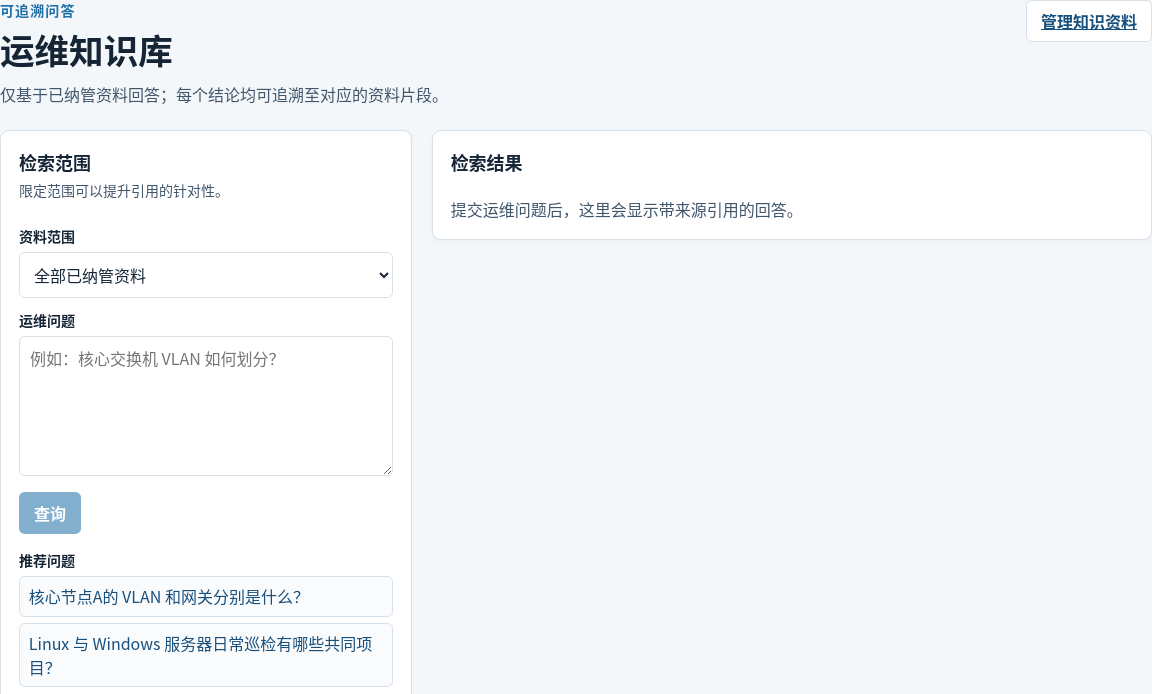
Test: shows retrieval, server-owned local generation metadata, concatenated deltas, citations, and completion time
The width and height of the screenshot is (1152, 694).
In the text box labelled "运维问题": (206, 406) [19,336,393,476], type "核心交换机 VLAN 如何划分？"
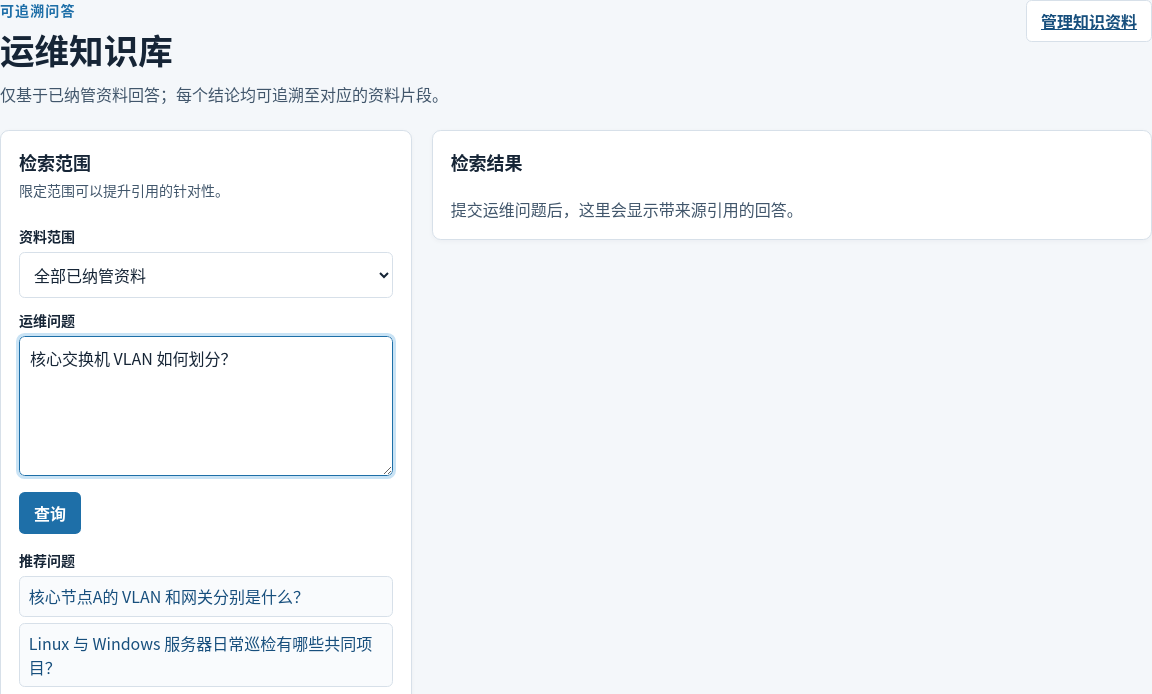
Click the button "查询": (50, 513) [19,492,81,534]
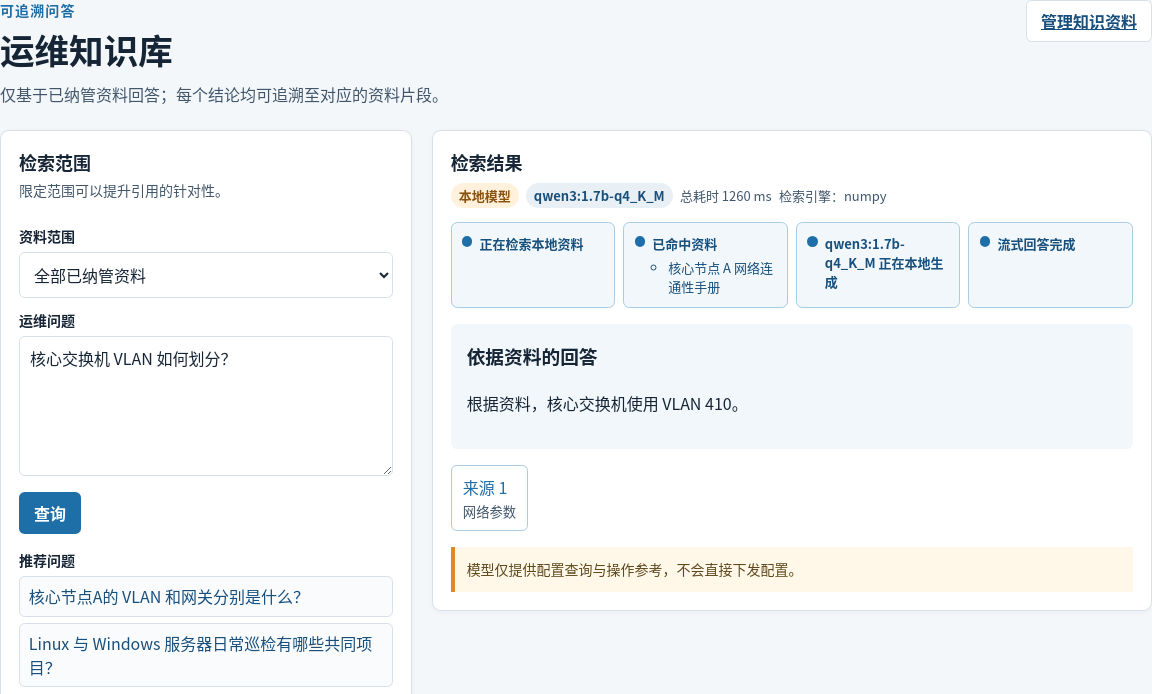
Expected: the text "根据资料，核心交换机使用 VLAN 410。" is shown, [467,391,748,415]
Expected: the text "已命中资料" is shown, [652,234,717,253]
Expected: the list item "核心节点 A 网络连通性手册" is shown, [668,258,776,296]
Click the button "来源 1 网络参数": (489, 498) [451,466,528,531]
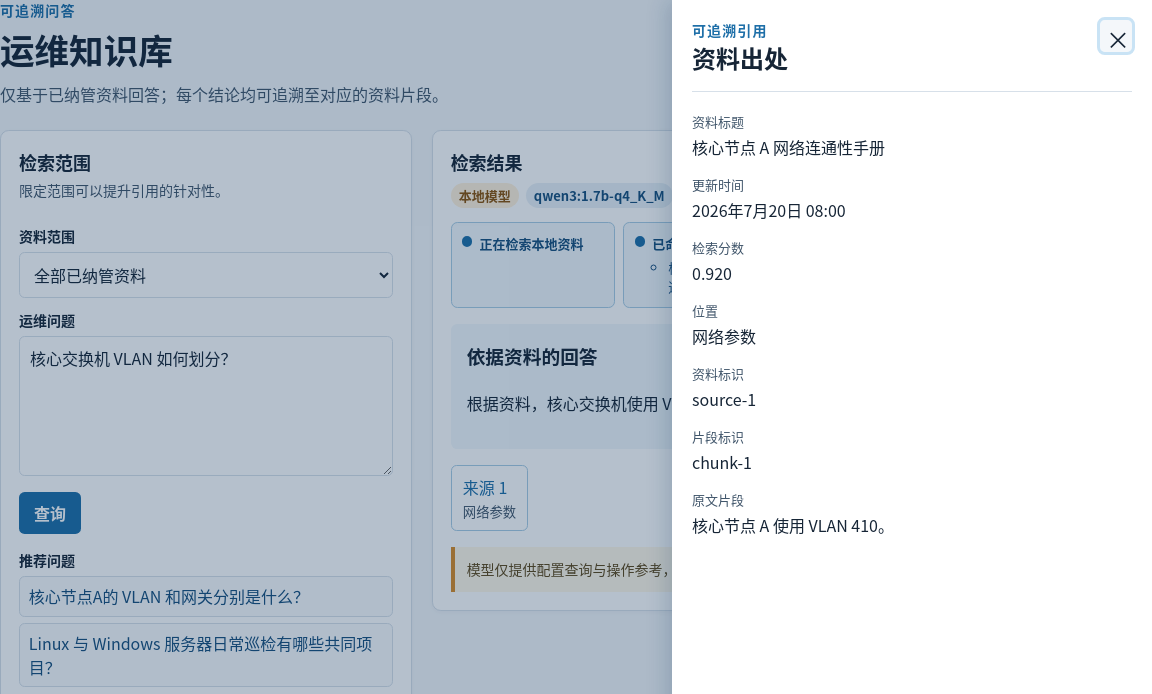
Expected: the dialog "资料出处" shows "核心节点 A 使用 VLAN 410。", [692,513,894,537]
